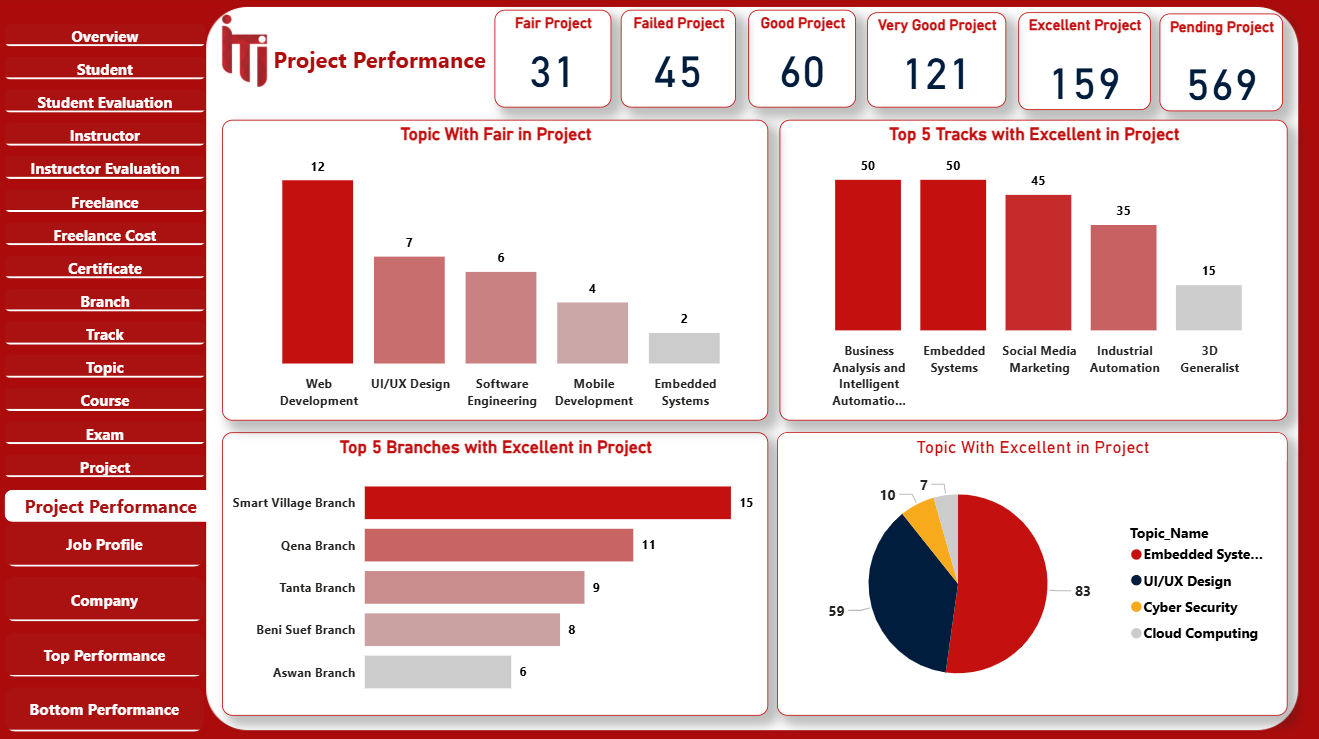

The page's visual inventory and layout, read from the dashboard file:
{"tool":"powerbi","page":{"name":"Project Performance","canvas":[1280,720],"ordinal":14},"visuals":[{"type":"card","title":"Excellent Project ","fields":{"Values":["Measures_.#Excellent"]},"box":[985.3,15.1,127.6,94.7],"z":0},{"type":"card","title":"Good Project ","fields":{"Values":["Measures_.Project_Good"]},"box":[724.5,13.7,104.3,94.7],"z":1000},{"type":"card","title":"Pending Project ","fields":{"Values":["Measures_.Project_Pending"]},"box":[1122.5,16.5,119.4,94.7],"z":2000},{"type":"card","title":"Very Good Project","fields":{"Values":["Measures_.Project_Very Good"]},"box":[840,16.3,134.1,92.1],"z":3000},{"type":"card","title":"Fair Project","fields":{"Values":["Measures_.Project_Fair"]},"box":[480.3,13.7,112.5,94.7],"z":4000},{"type":"card","title":"Failed Project","fields":{"Values":["Measures_.Project_Failed"]},"box":[602.4,13.7,111.1,94.7],"z":5000},{"type":"clusteredBarChart","title":"Top 5 Branches with Excellent in Project","fields":{"Y":["Count(Fact_Student_Performance.st_id)"],"Category":["vw_Dim_Branch.Branch_Name","vw_Dim_Student.Grade_Project"]},"box":[216.7,421.4,527.4,273.8],"z":6000},{"type":"clusteredColumnChart","title":"Top 5 Tracks with Excellent in Project","fields":{"Category":["vw_Dim_Track.Track_Name","vw_Dim_Student.Grade_Project"],"Y":["Count(Fact_Student_Performance.st_id)"]},"box":[754.8,119,490.5,290.5],"z":7000},{"type":"pieChart","title":"Topic With Excellent in Project","fields":{"Category":["vw_Dim_Topic.Topic_Name","vw_Dim_Student.Grade_Project"],"Y":["Count(Fact_Student_Performance.st_id)"]},"box":[752.4,421.4,492.9,273.8],"z":8000},{"type":"clusteredColumnChart","title":"Topic With Fair in Project","fields":{"Category":["vw_Dim_Topic.Topic_Name","vw_Dim_Student.Grade_Project"],"Y":["Count(Fact_Student_Performance.st_id)"]},"box":[216.7,119,527.4,290.5],"z":9000},{"type":"textbox","box":[262.1,41.2,274.4,67.2],"z":10000},{"type":"pageNavigator","box":[6.9,26.1,194.9,440.5],"z":11000},{"type":"pageNavigator","box":[6.9,476.2,205.8,31.6],"z":12000},{"type":"pageNavigator","box":[6.9,507.7,193.5,203.1],"z":13000},{"type":"image","box":[196.2,4.1,86.4,89.2],"z":14000}]}

Visuals, with their boxes on the page's 1280x720 design canvas (x1, y1, x2, y2). These are canvas units, not pixel positions in the 1319x739 screenshot, which may show the page scaled, cropped or inside an application window:
"Excellent Project " card: {"left": 985, "top": 15, "right": 1113, "bottom": 110}
"Good Project " card: {"left": 724, "top": 14, "right": 829, "bottom": 108}
"Pending Project " card: {"left": 1122, "top": 16, "right": 1242, "bottom": 111}
"Very Good Project" card: {"left": 840, "top": 16, "right": 974, "bottom": 108}
"Fair Project" card: {"left": 480, "top": 14, "right": 593, "bottom": 108}
"Failed Project" card: {"left": 602, "top": 14, "right": 714, "bottom": 108}
"Top 5 Branches with Excellent in Project" clusteredBarChart: {"left": 217, "top": 421, "right": 744, "bottom": 695}
"Top 5 Tracks with Excellent in Project" clusteredColumnChart: {"left": 755, "top": 119, "right": 1245, "bottom": 410}
"Topic With Excellent in Project" pieChart: {"left": 752, "top": 421, "right": 1245, "bottom": 695}
"Topic With Fair in Project" clusteredColumnChart: {"left": 217, "top": 119, "right": 744, "bottom": 410}
textbox: {"left": 262, "top": 41, "right": 536, "bottom": 108}
pageNavigator: {"left": 7, "top": 26, "right": 202, "bottom": 467}
pageNavigator: {"left": 7, "top": 476, "right": 213, "bottom": 508}
pageNavigator: {"left": 7, "top": 508, "right": 200, "bottom": 711}
image: {"left": 196, "top": 4, "right": 283, "bottom": 93}
